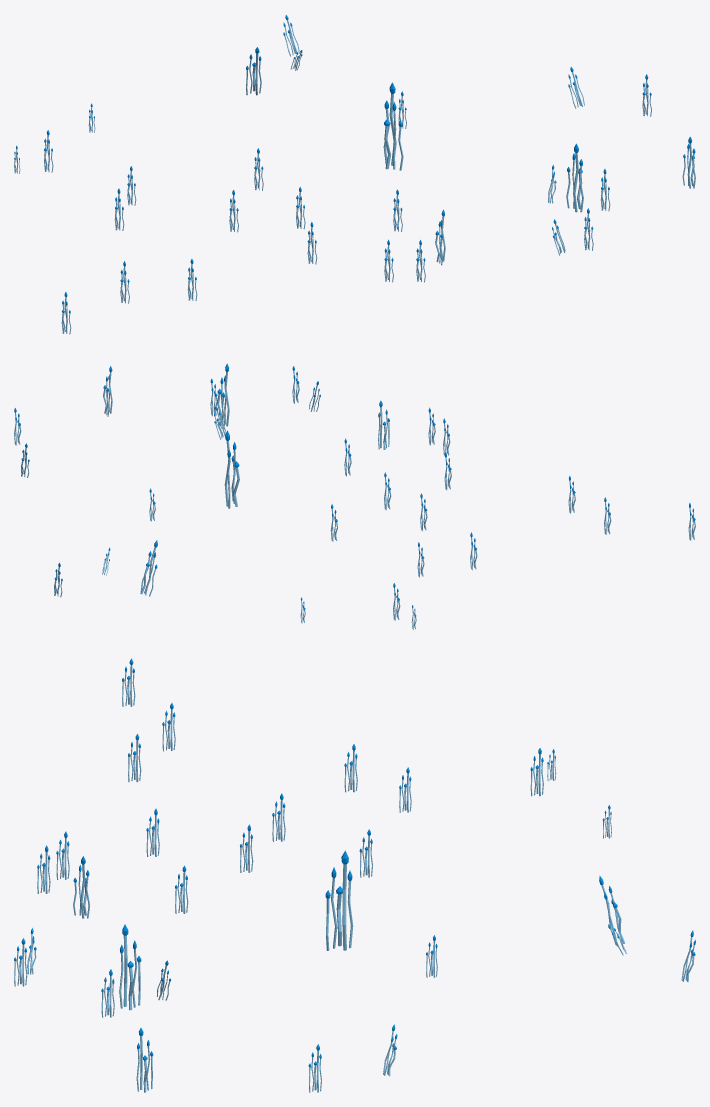
The model's file is blueMush.fbx.
The picture shows the model from 3 angles, top to bottom: view 1: azimuth 30°, elevation 25°; view 2: azimuth 150°, elevation 25°; view 3: azimuth 270°, elevation 25°; orthographic projection. The views are drawn at different scales.
Parts seen in each view (by area): view 1: SP_Plant06.001; view 2: SP_Plant06.001; view 3: SP_Plant06.001.
Boxes of the visible parts, x1,y1,x2,y2 form: SP_Plant06.001: (14,15,695,334); SP_Plant06.001: (14,363,695,629); SP_Plant06.001: (14,658,695,1092).
Bounding box in the file's own units: 39.85 × 5.48 × 29.48.
1 material, 1 textured.
